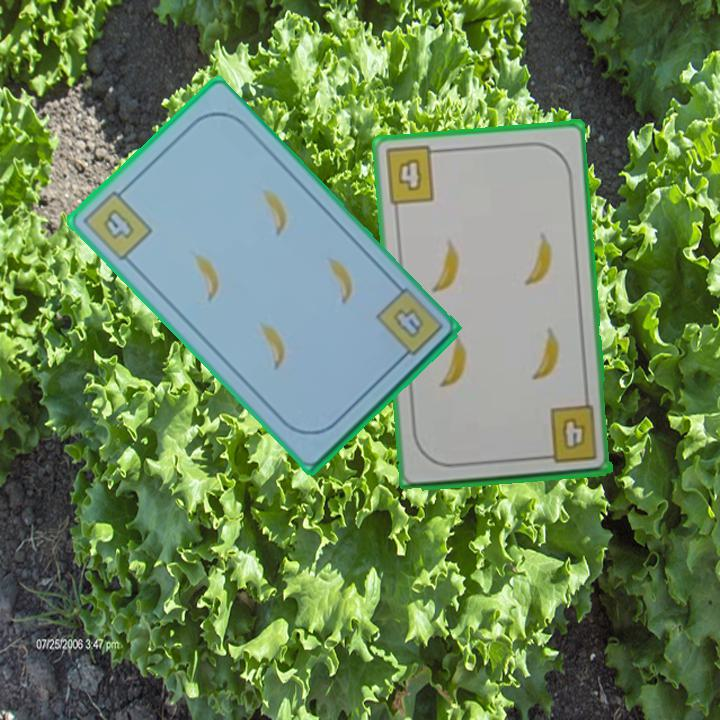4b: (78, 182, 156, 264), (381, 143, 445, 207), (537, 402, 600, 467), (388, 304, 427, 342)
